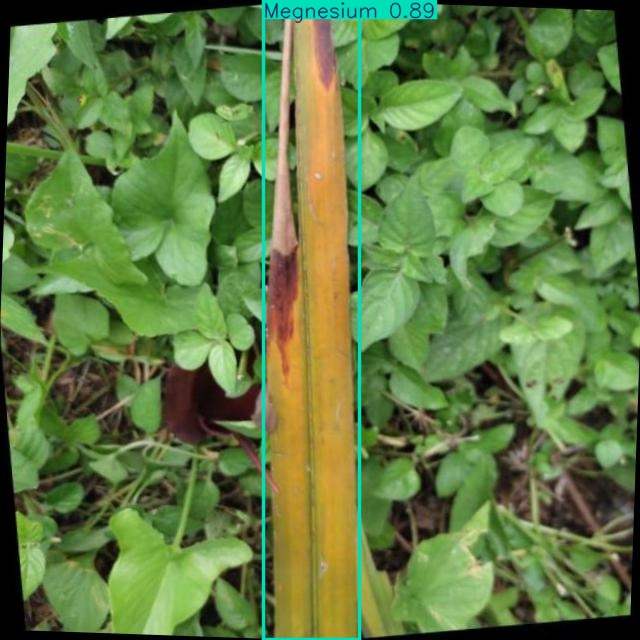Megnesium: (264, 1, 359, 640)
